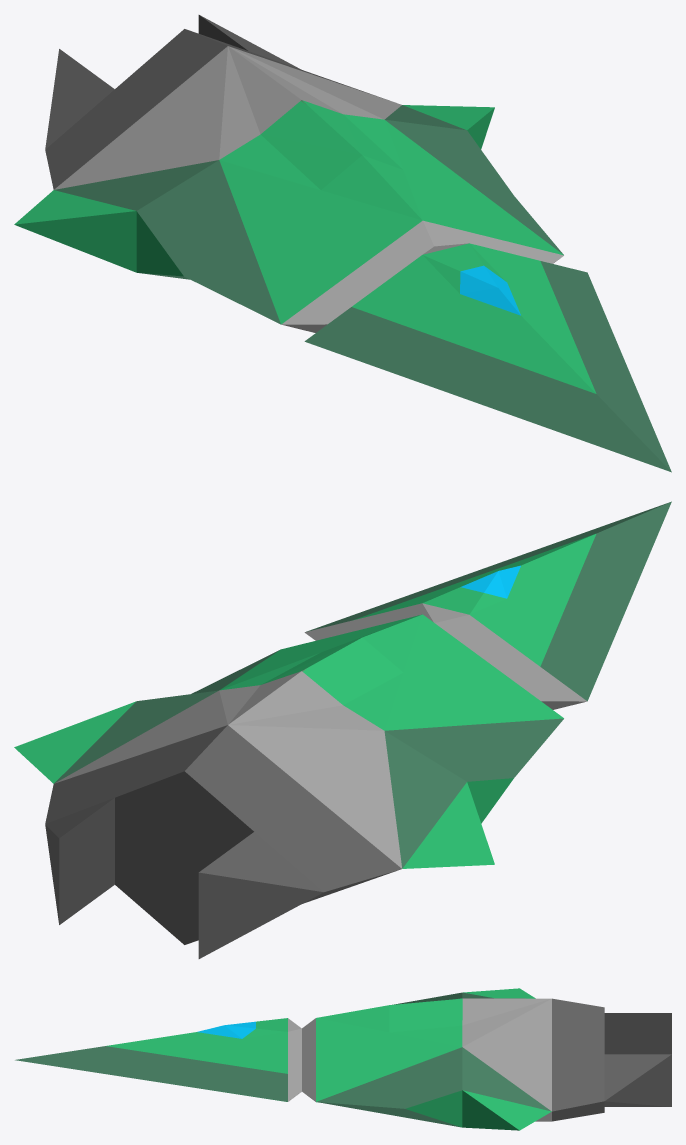
The model's file is tri_lancer2.fbx.
The picture shows the model from 3 angles, top to bottom: view 1: azimuth 30°, elevation 25°; view 2: azimuth 150°, elevation 25°; view 3: azimuth 270°, elevation 25°; orthographic projection. The views are drawn at different scales.
Visible parts, largest first — view 1: tri_frigate_light; view 2: tri_frigate_light; view 3: tri_frigate_light.
Boxes of the visible parts, box(x1,y1,x2,y2) form: tri_frigate_light: box(14, 15, 671, 472); tri_frigate_light: box(14, 501, 671, 958); tri_frigate_light: box(15, 988, 671, 1130).
Size of the model in its own units: 25.82 by 10.41 by 50.48.
1 material, 1 textured.
